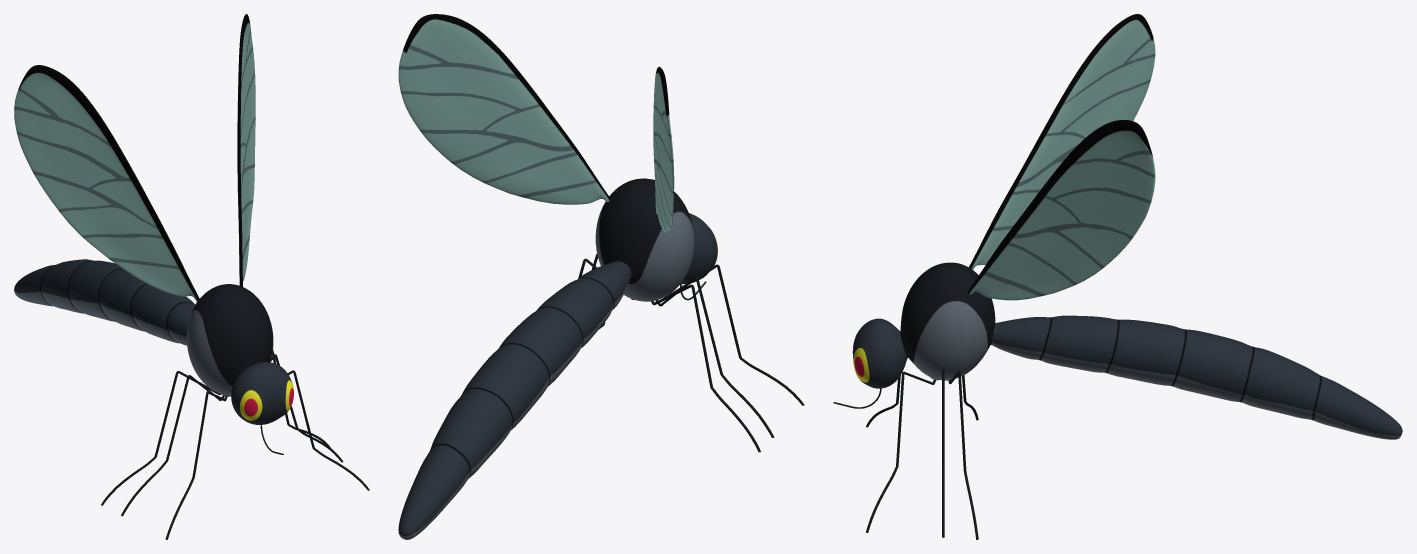
The model's file is Mosquito.glb.
3 views of the same model, side by side, from view 1: azimuth 30°, elevation 25°; view 2: azimuth 150°, elevation 25°; view 3: azimuth 270°, elevation 25° (orthographic). The views are drawn at different scales.
Parts seen in each view (by area): view 1: mosquito.1; view 2: mosquito.1; view 3: mosquito.1.
Part boxes in pixels (x1=…): mosquito.1: x1=14, y1=14, x2=369, y2=539; mosquito.1: x1=398, y1=14, x2=804, y2=539; mosquito.1: x1=833, y1=14, x2=1402, y2=539.
Size of the model in its own units: 0.00484 by 0.0074 by 0.00927.
Materials: 1 (1 with a texture image).
